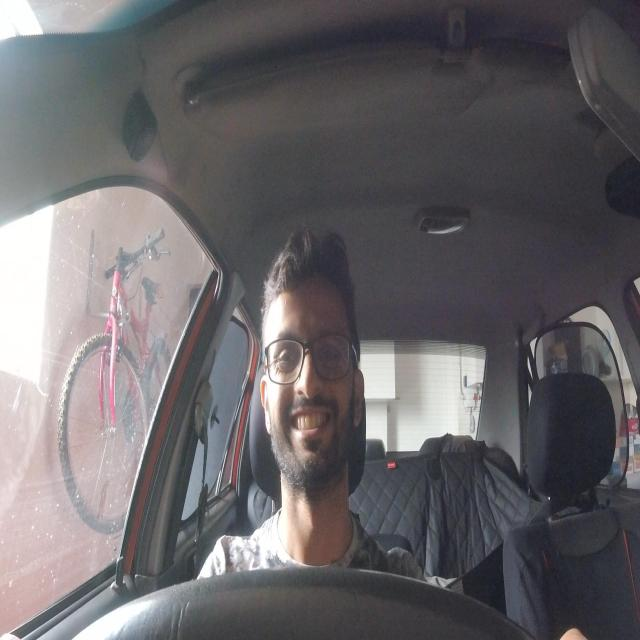open: (270, 326, 304, 382)
